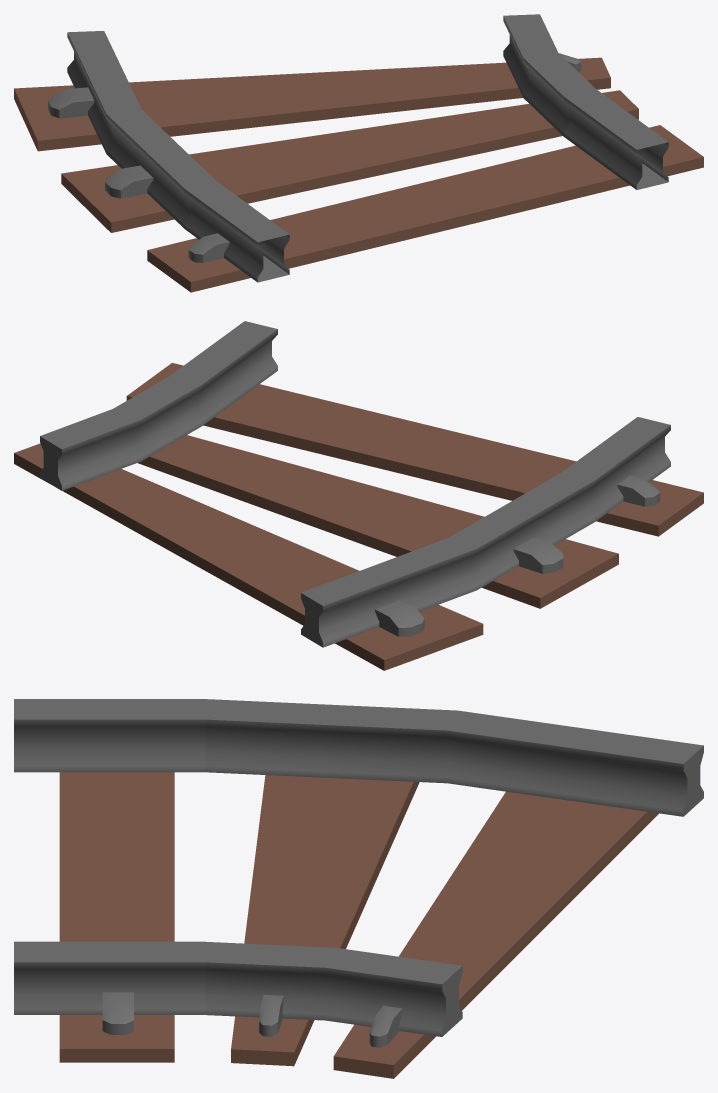
Rendered from Trilho_reto_curva2.fbx.
3 views of the same model, one above another, from view 1: azimuth 30°, elevation 25°; view 2: azimuth 150°, elevation 25°; view 3: azimuth 270°, elevation 25° (orthographic). The views are drawn at different scales.
Parts seen in each view (by area): view 1: Trilho_reto_curva2; view 2: Trilho_reto_curva2; view 3: Trilho_reto_curva2.
Boxes of the visible parts, box(x1,y1,x2,y2) form: Trilho_reto_curva2: box(14, 14, 703, 292); Trilho_reto_curva2: box(14, 321, 703, 670); Trilho_reto_curva2: box(14, 699, 703, 1078).
Bounding box in the file's own units: 213 × 19.27 × 180.
